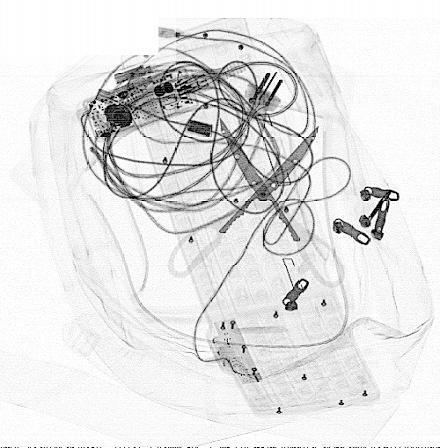Scissors: (167, 117, 347, 290)
